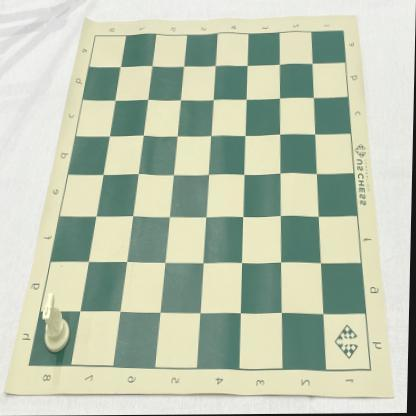white-knight: (43, 292, 72, 354)
